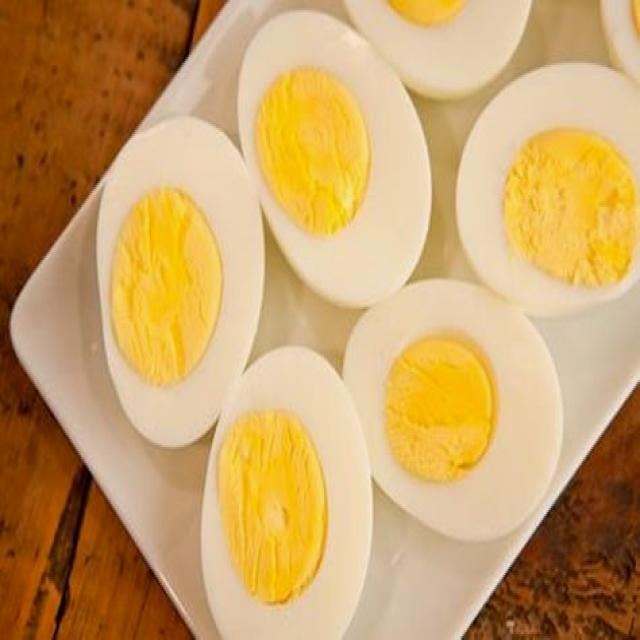telur rebus: (232, 15, 451, 306), (342, 278, 564, 545), (96, 116, 266, 449), (201, 345, 373, 640), (447, 57, 640, 317)
